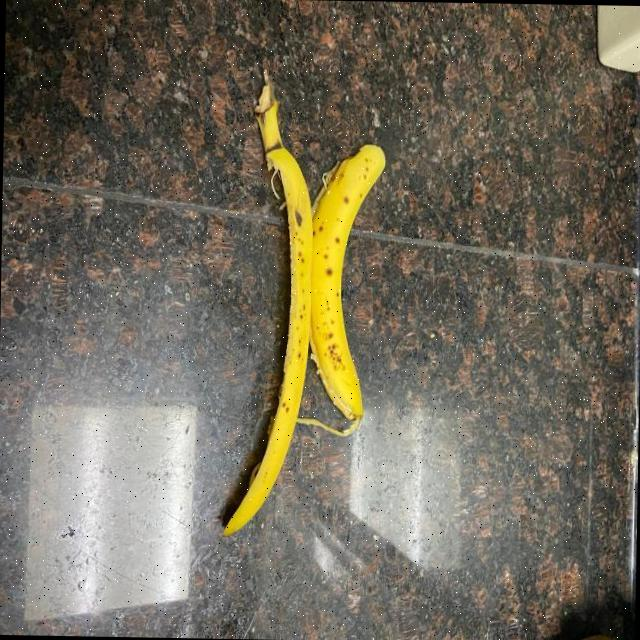banana-peel: (220, 70, 316, 538), (301, 141, 386, 437)
